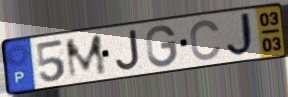5: (34, 37, 67, 84)
C: (188, 18, 224, 62)
G: (145, 24, 179, 69)
J: (225, 10, 259, 60), (114, 28, 141, 73)
M: (63, 32, 109, 82)
